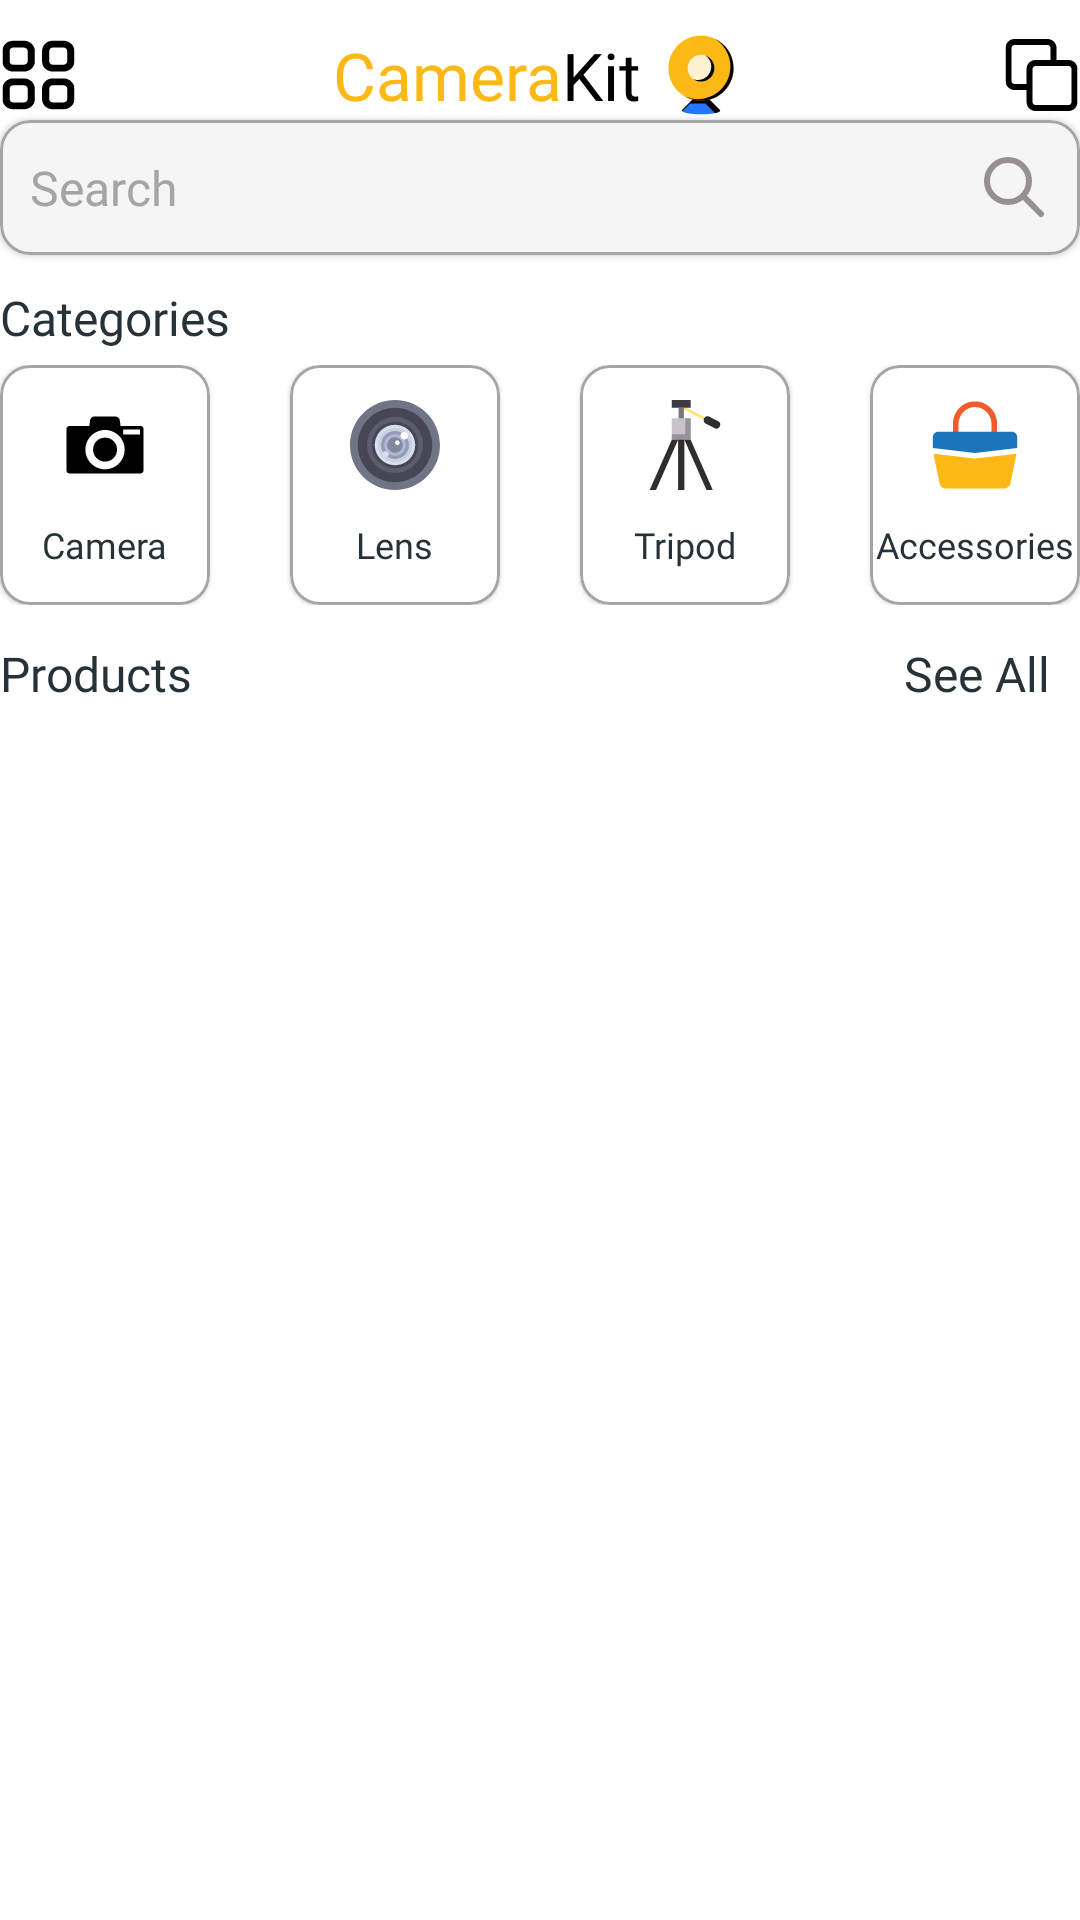

Icons on this 1080 x 1920 Android screen, each with its box as bbox(x1, y1, x2, y2):
menu: bbox(2, 40, 75, 110)
search: bbox(984, 157, 1044, 217)
